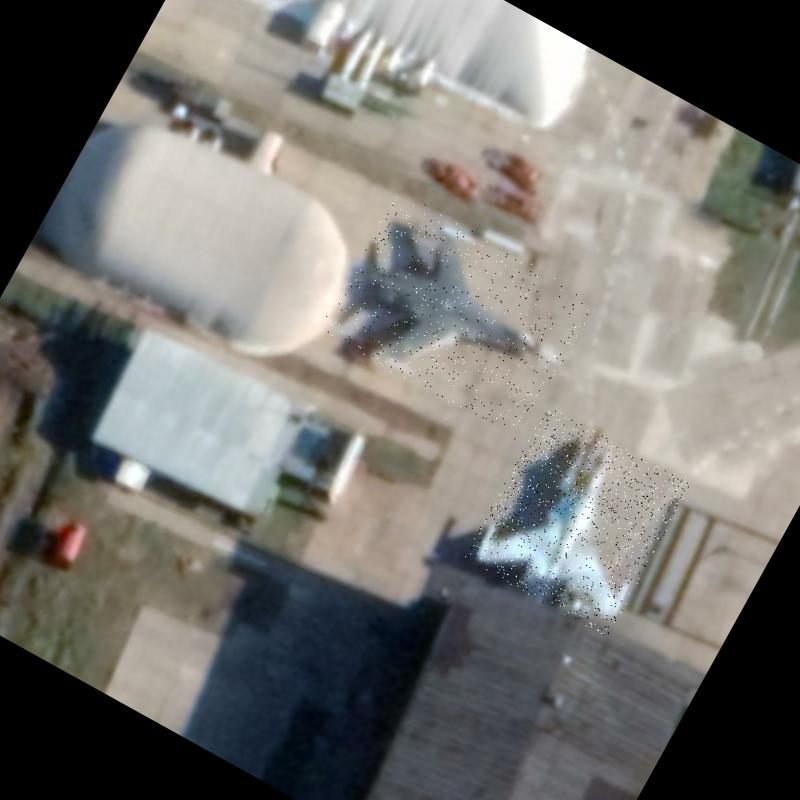A1: (315, 188, 597, 442), (462, 405, 691, 638)
